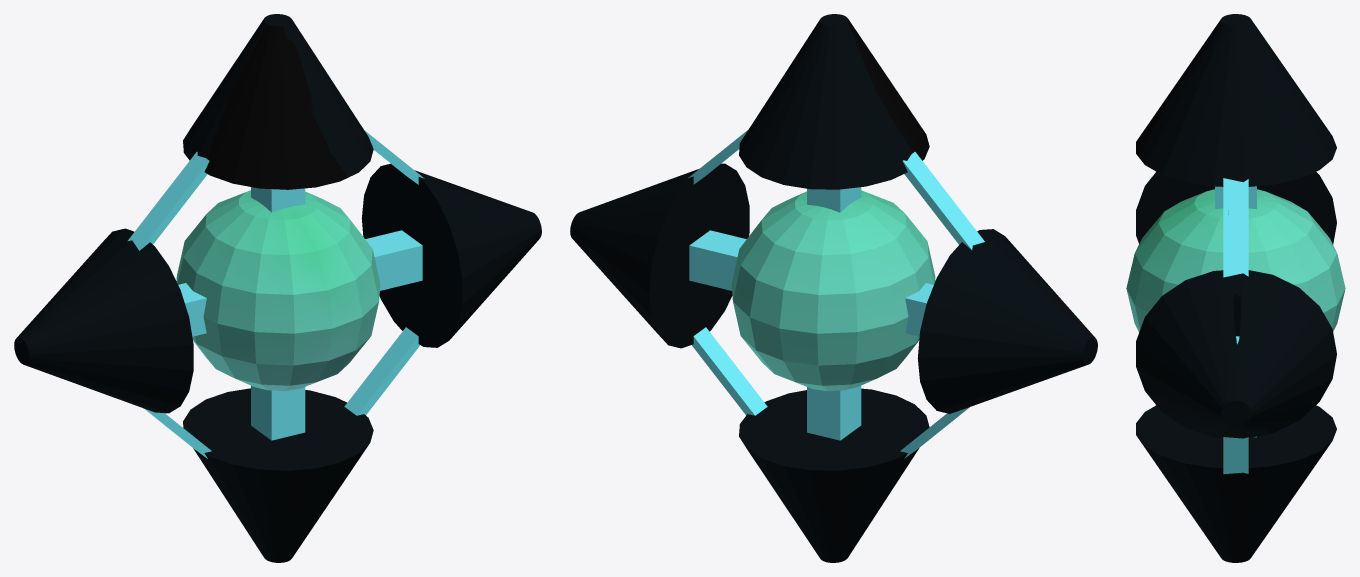
Rendered from guardian.obj.
3 renders of one model, left to right at view 1: azimuth 30°, elevation 25°; view 2: azimuth 150°, elevation 25°; view 3: azimuth 270°, elevation 25°, orthographic.
Parts seen in each view (by area): view 1: 球; view 2: 球; view 3: 球.
Boxes of the visible parts, x1,y1,x2,y2 form: 球: (14,14,541,562); 球: (570,14,1097,562); 球: (1126,14,1345,562).
Bounding box in the file's own units: 2.47 × 2.47 × 0.913.
Materials: 1 (1 with a texture image).
